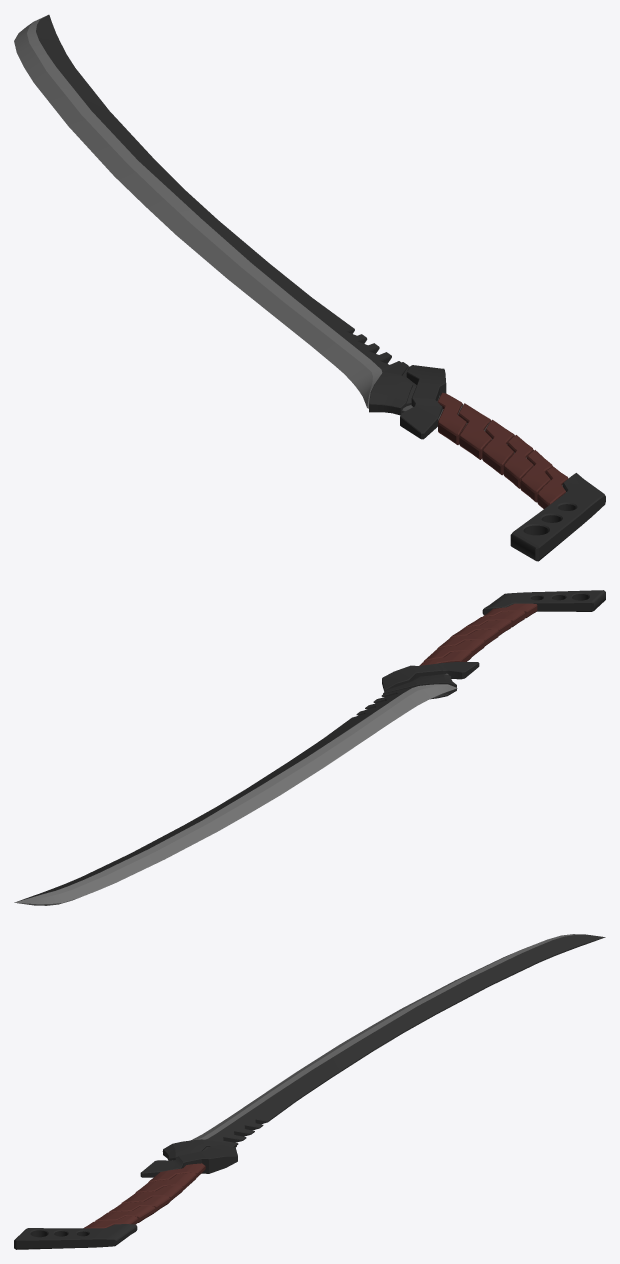
File: Katana.fbx
3 renders of one model, top to bottom at view 1: azimuth 30°, elevation 25°; view 2: azimuth 150°, elevation 25°; view 3: azimuth 330°, elevation 25°, orthographic. The views are drawn at different scales.
Visible parts, largest first — view 1: Katana; view 2: Katana; view 3: Katana.
Part boxes in pixels (bbox=[...]): Katana: bbox=[14, 14, 605, 561]; Katana: bbox=[14, 590, 605, 905]; Katana: bbox=[14, 934, 605, 1249].
Size of the model in its own units: 0.1712 by 0.0203 by 1.04.
